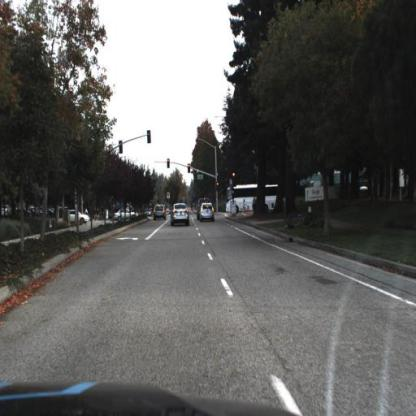car: (172, 203, 191, 228), (200, 202, 216, 223), (67, 211, 90, 223), (114, 209, 137, 221), (154, 205, 166, 222)
pedestrian: (253, 196, 258, 212)
trafficLight-Red: (188, 165, 192, 175), (233, 173, 236, 185), (217, 182, 220, 191)
trafficLight-RedLeft: (167, 158, 171, 169)
truck: (226, 186, 279, 215)
